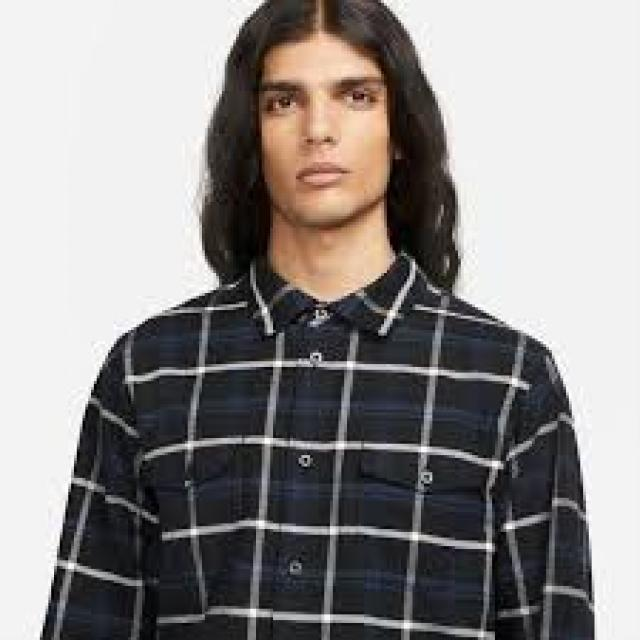plaid: (31, 256, 603, 640)
